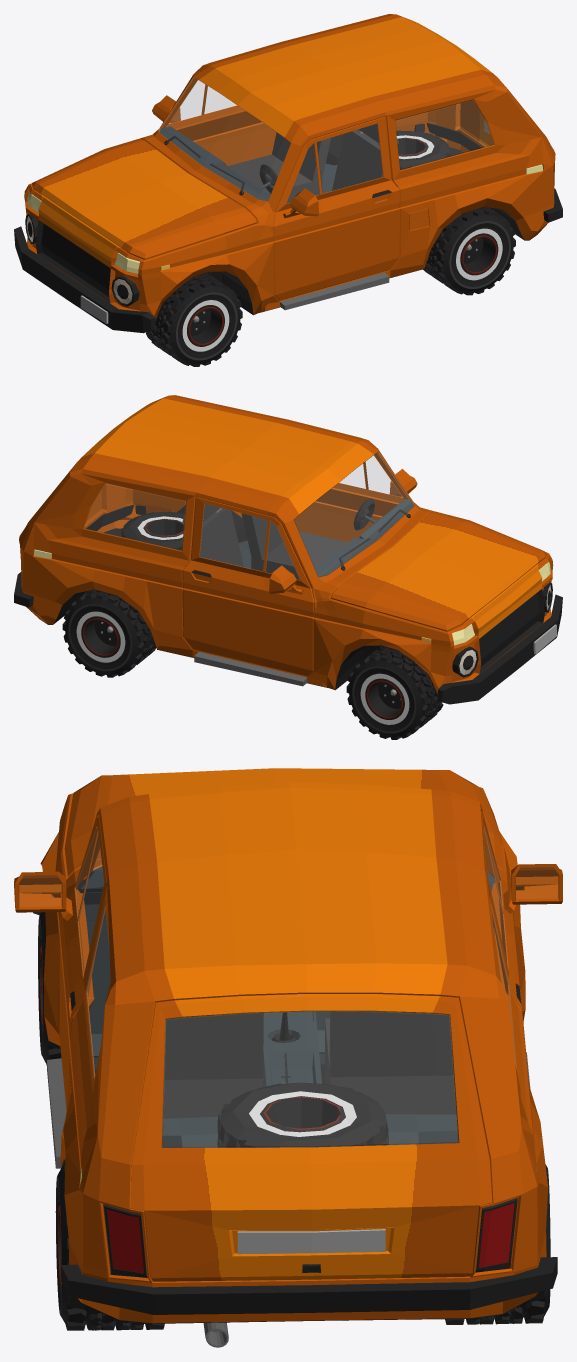
The picture shows the model from 3 angles, top to bottom: view 1: azimuth 30°, elevation 25°; view 2: azimuth 150°, elevation 25°; view 3: azimuth 270°, elevation 25°; orthographic projection. The views are drawn at different scales.
Parts seen in each view (by area): view 1: Body, hood, Door.001, WindowFront, Wheel.002, Wheel.003, Seats, WondowRight, Door, WindowDoor.001, Bumper.001, Floor (+10 smaller); view 2: Body, hood, Door, WindowFront, Wheel.002, Wheel.003, Seats, WondowRight, WindowDoor, Door.001, Bumper.001, Wheel.004 (+8 smaller); view 3: Body, Trunk, WindowBack, Seats, Bumper.002, hood, Wheel.004, Door.001, Light.003, Wheel.003, Floor.001, Floor.002 (+10 smaller).
Boxes of the visible parts, x1,y1,x2,y2 form: Body: (24, 14, 555, 318); hood: (32, 138, 257, 259); Door.001: (273, 116, 400, 300); WindowFront: (159, 78, 289, 200); Wheel.002: (146, 272, 242, 366); Wheel.003: (423, 207, 515, 295); Seats: (228, 123, 398, 203); WondowRight: (396, 100, 493, 169); Door: (162, 78, 275, 165); WindowDoor.001: (287, 124, 382, 202); Bumper.001: (14, 226, 155, 333); Floor: (155, 134, 541, 319); Body: (19, 395, 553, 693); hood: (330, 511, 545, 631); Door: (182, 496, 314, 676); WindowFront: (294, 452, 414, 576); Wheel.002: (346, 645, 443, 739); Wheel.003: (62, 590, 156, 677); Seats: (181, 503, 347, 579); WondowRight: (85, 484, 185, 549); WindowDoor: (200, 504, 298, 579); Door.001: (294, 453, 408, 542); Bumper.001: (437, 594, 562, 704); Wheel.004: (121, 511, 184, 550); Body: (40, 782, 548, 1323); Trunk: (130, 994, 492, 1281); WindowBack: (163, 1011, 457, 1146); Seats: (163, 1011, 456, 1118); Bumper.002: (61, 1257, 557, 1314); hood: (64, 768, 502, 877); Wheel.004: (217, 1082, 388, 1147); Door.001: (59, 816, 106, 1109); Light.003: (103, 1198, 517, 1277); Wheel.003: (55, 1159, 550, 1330); Floor.001: (263, 1011, 321, 1087); Floor.002: (162, 1114, 458, 1147).
Size of the model in its own units: 13.82 by 5.83 by 7.45.
Materials: 4 (1 with a texture image).
